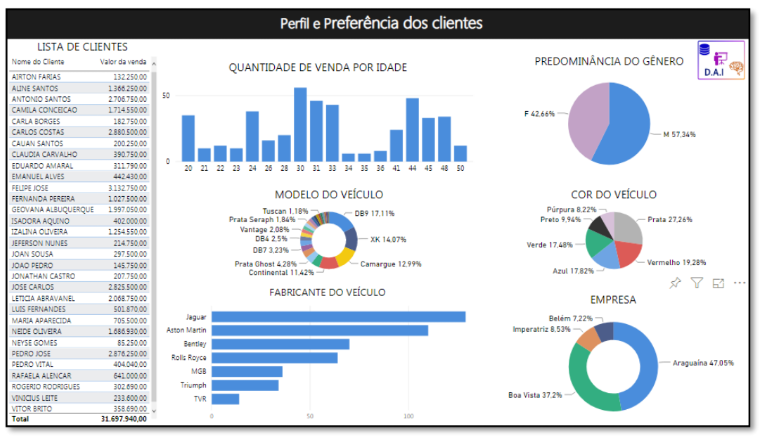

This screenshot's page, from the dashboard's own definition file:
{"tool":"powerbi","page":{"name":"Clientes","canvas":[1280,720],"ordinal":2},"visuals":[{"type":"textbox","box":[0,0,1280,53.8],"z":0},{"type":"clusteredBarChart","title":"FABRICANTE DO VEÍCULO","fields":{"Category":["Faturamento.DIM VEICULO.FABRICANTE"],"Y":["Sum(Faturamento.FATO VENDA Count)"]},"box":[265.2,476.8,578.5,243.2],"z":1000},{"type":"donutChart","title":"EMPRESA","fields":{"Y":["Sum(Faturamento.FATO VENDA Count)"],"Category":["Faturamento.DIM LOJA.CIDADE"]},"box":[810.7,487.8,468.5,232.2],"z":2000},{"type":"pieChart","title":"PREDOMINÂNCIA DO GÊNERO","fields":{"Category":["Faturamento.DIM CLIENTE.GENERO"],"Y":["Sum(Faturamento.VALORVENDA)"]},"box":[812.1,78.3,452.1,215.7],"z":3000},{"type":"clusteredColumnChart","title":"QUANTIDADE DE VENDA POR IDADE","fields":{"Category":["Faturamento.DIM CLIENTE.IDADECLIENTE"],"Y":["Sum(Faturamento.FATO VENDA Count)"]},"box":[265.2,89.3,545.5,204.7],"z":4000},{"type":"donutChart","title":"MODELO DO VEÍCULO","fields":{"Y":["Sum(Faturamento.VALORVENDA)"],"Category":["Faturamento.DIM VEICULO.MODELO"]},"box":[285.8,307.8,541.4,159.4],"z":5000},{"type":"pieChart","title":"COR DO VEÍCULO","fields":{"Y":["Sum(Faturamento.VALORVENDA)"],"Category":["Faturamento.DIM VEICULO.COR"]},"box":[812.1,307.8,468.5,159.4],"z":6000},{"type":"tableEx","title":"LISTA DE CLIENTES","fields":{"Values":["Faturamento.DIM CLIENTE.NOMECLIENTE","Sum(Faturamento.VALORVENDA)"]},"box":[0,53.6,265.2,666.4],"z":7000},{"type":"image","box":[1179.2,16.6,100.8,145.2],"z":8000}]}

Visuals, with their boxes in screenshot pixels (x1, y1, x2, y2), scaled from the page's 1280x720 canvas onto the 759x438 screenshot:
textbox: <box>0,0,758,33</box>
"FABRICANTE DO VEÍCULO" clusteredBarChart: <box>157,290,500,437</box>
"EMPRESA" donutChart: <box>481,297,758,437</box>
"PREDOMINÂNCIA DO GÊNERO" pieChart: <box>482,48,750,179</box>
"QUANTIDADE DE VENDA POR IDADE" clusteredColumnChart: <box>157,54,481,179</box>
"MODELO DO VEÍCULO" donutChart: <box>169,187,491,284</box>
"COR DO VEÍCULO" pieChart: <box>482,187,758,284</box>
"LISTA DE CLIENTES" tableEx: <box>0,33,157,437</box>
image: <box>699,10,758,98</box>
